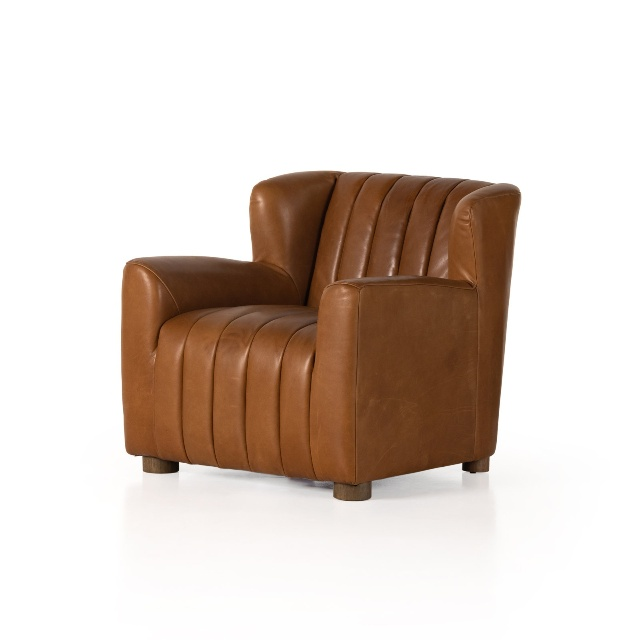obstacle: (122, 171, 520, 500)
